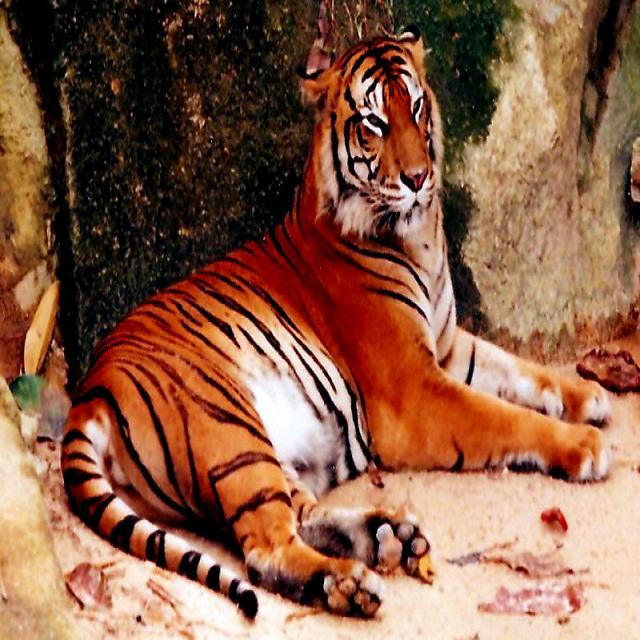Tiger: (60, 25, 614, 621)
